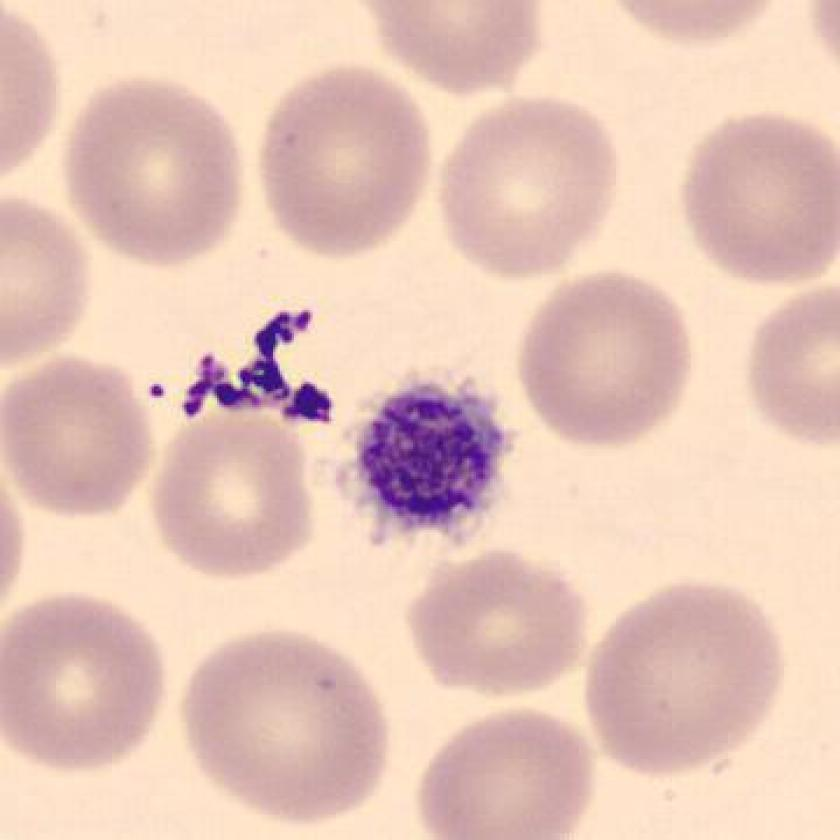platelets: (337, 364, 519, 554)
